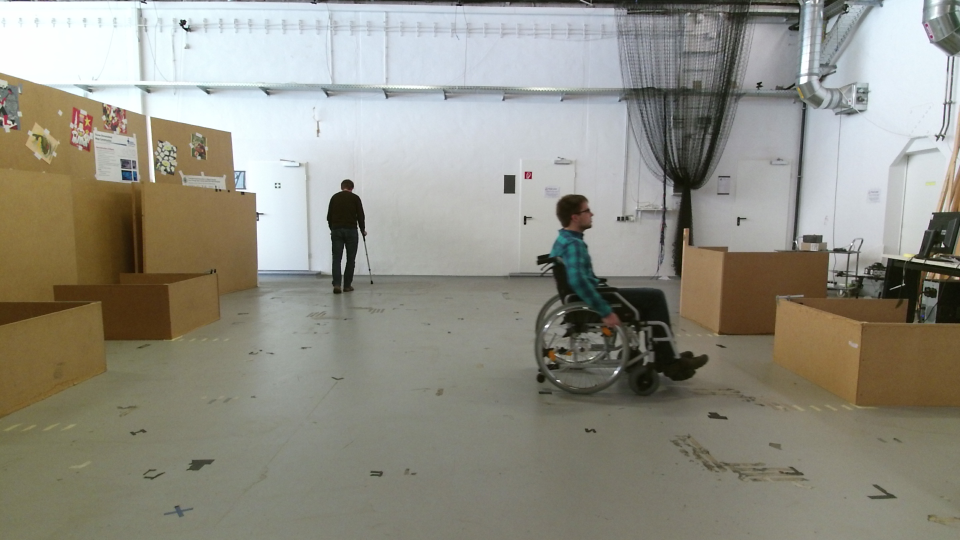crutches: (316, 172, 378, 299)
wheelchair: (529, 190, 713, 408)
